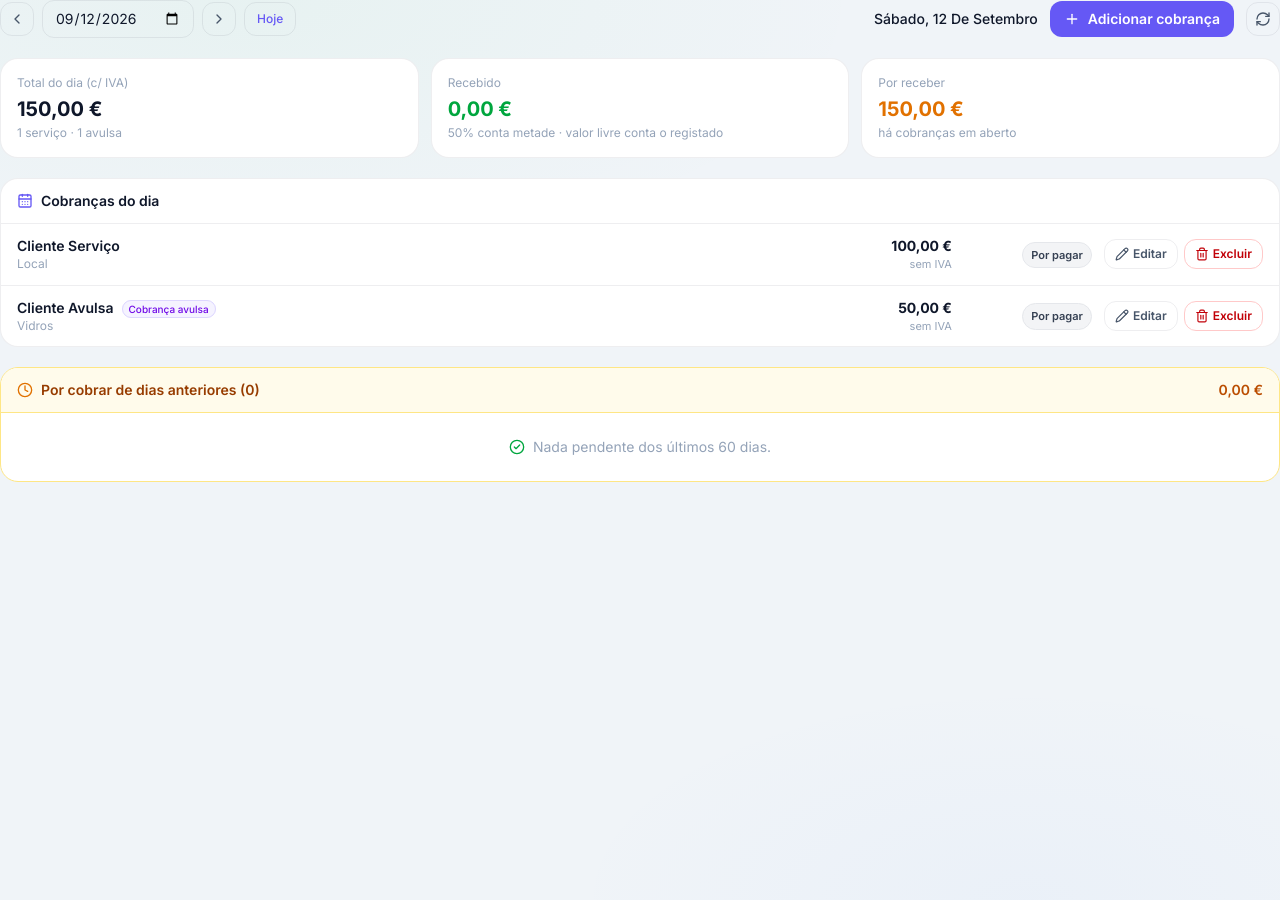
Test: excluir › recusa da base ao excluir serviço chega traduzida
The image size is (1280, 900).
Click the button "Excluir" in the row of "100,00 €": [1223, 254] box [1184, 239, 1263, 269]
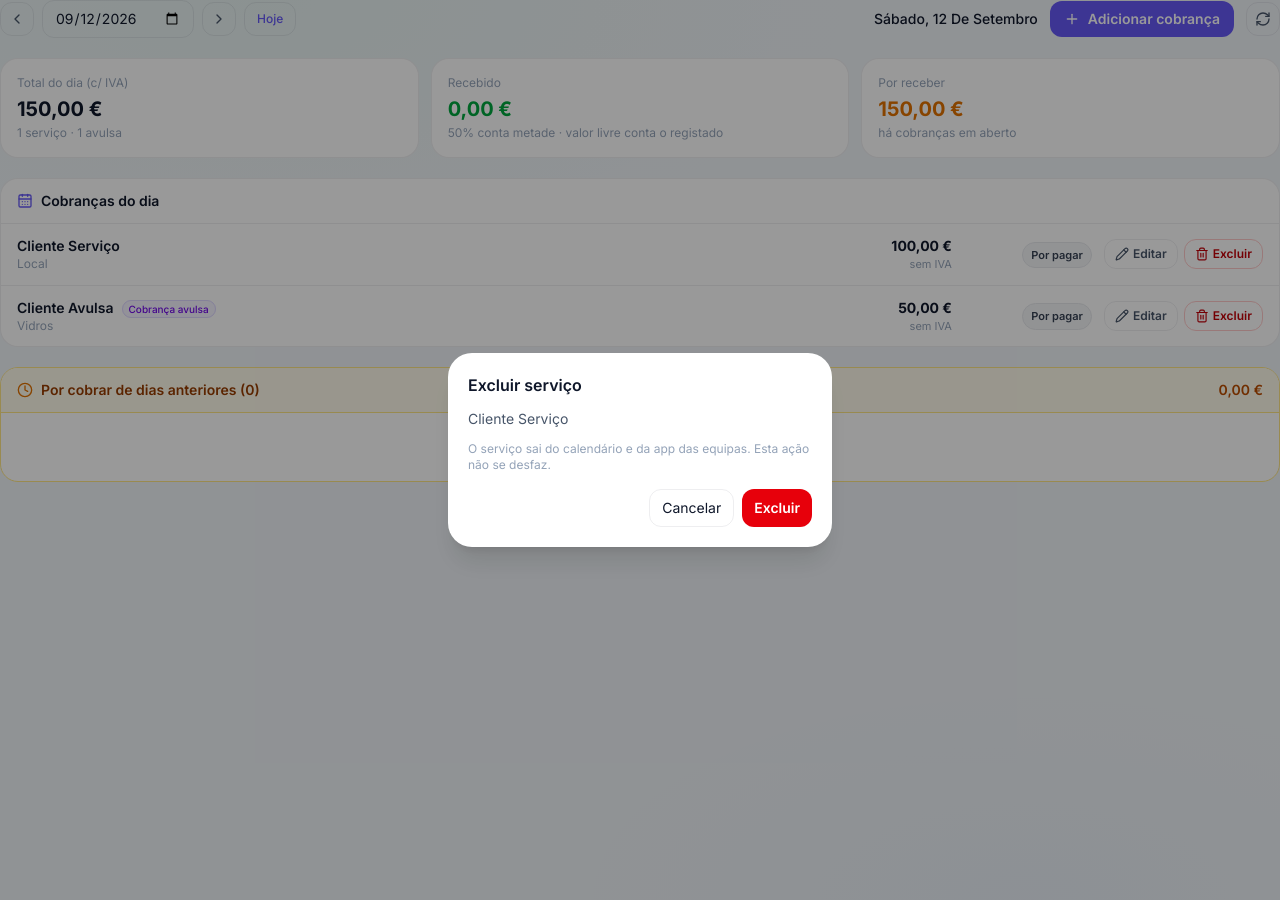
Click the button "Excluir": [777, 508] box [742, 489, 812, 527]
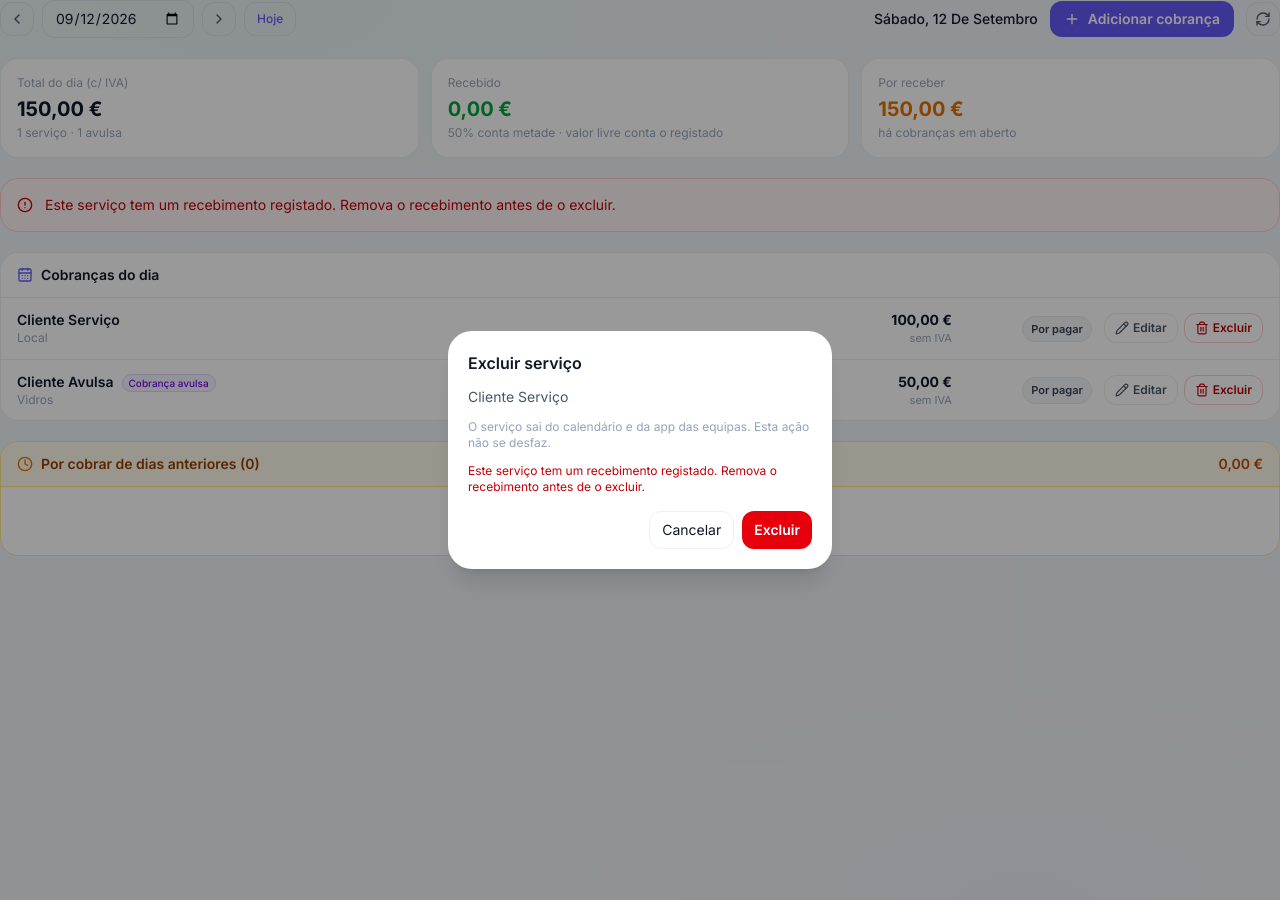
Check: the dialog shows "Remova o recebimento antes de o excluir", box [468, 463, 777, 494]
